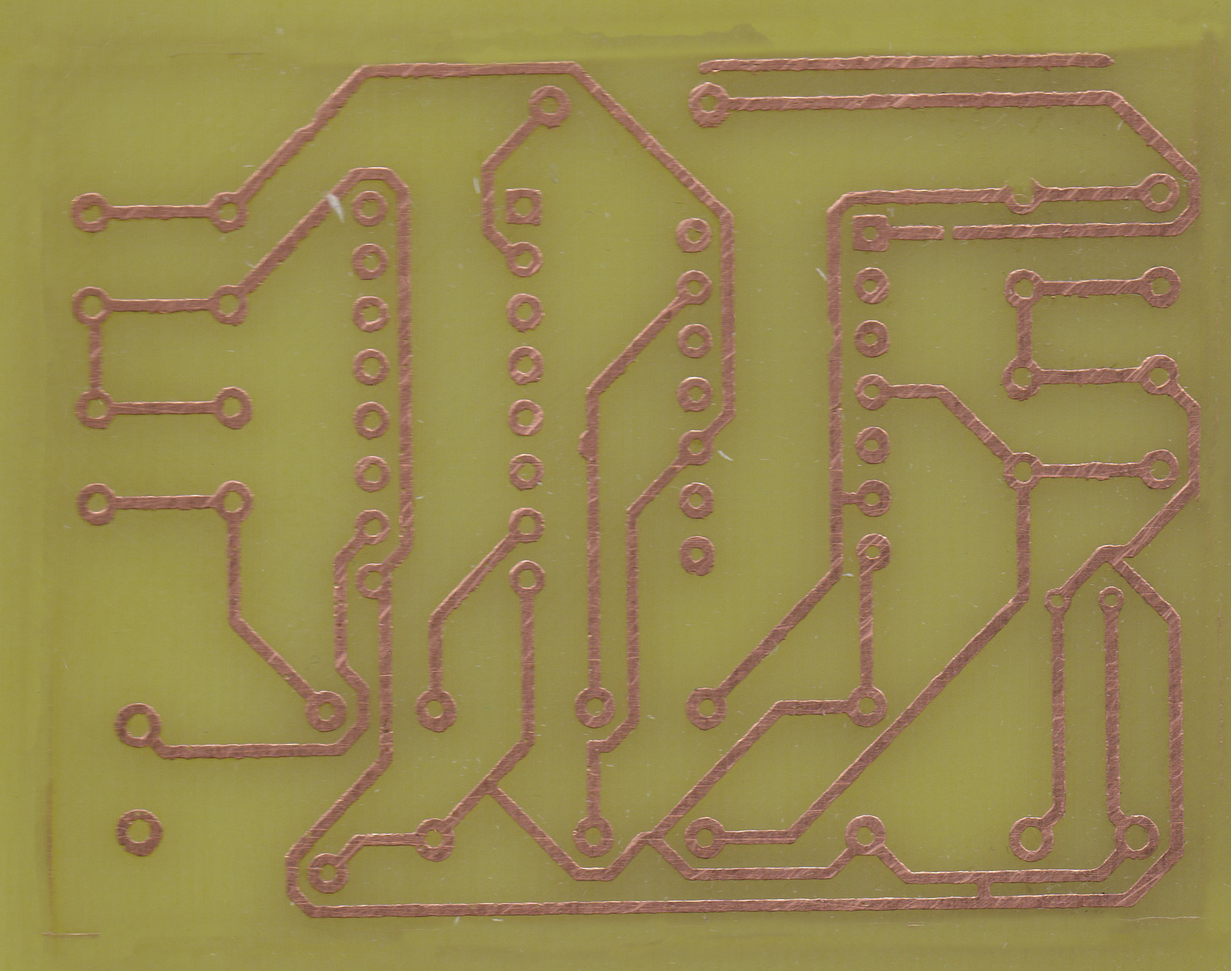missing_hole: (994, 173, 1047, 217)
mouse_bite: (292, 105, 326, 143), (822, 315, 846, 361)
open_circuit: (931, 218, 964, 246)
short: (967, 868, 998, 912)
spur: (573, 426, 603, 463), (1080, 460, 1114, 482)
spurious_copper: (692, 51, 1119, 77)
